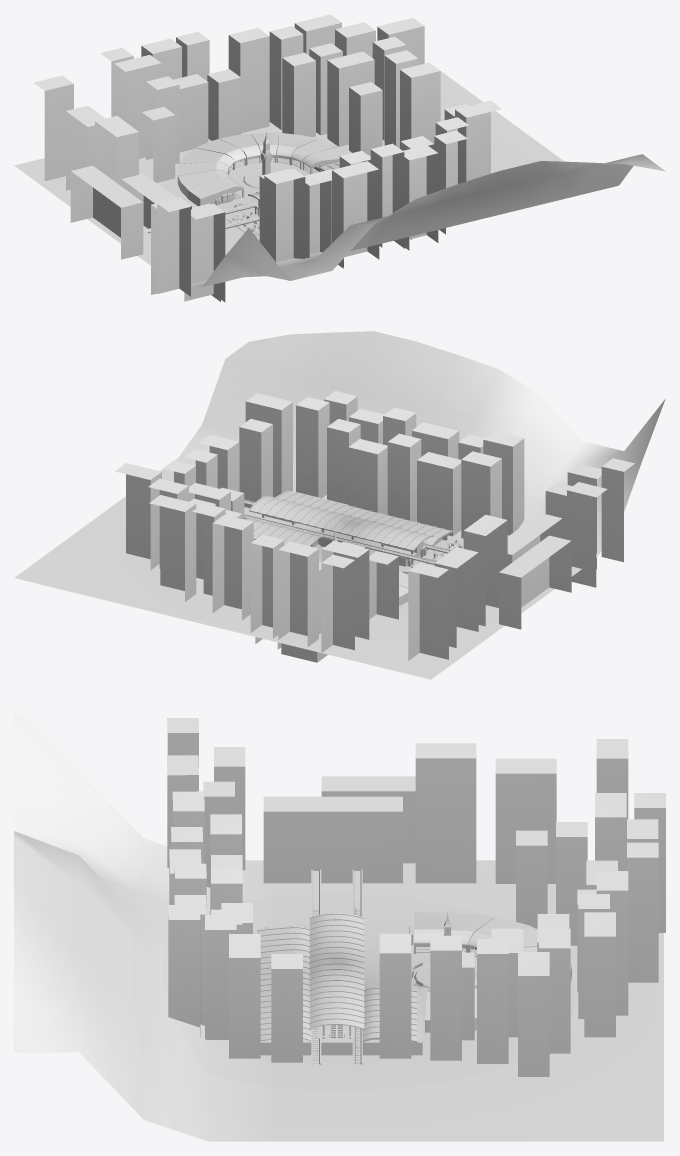
The model's file is mod_environment_shade.fbx.
3 views of the same model, one above another, from view 1: azimuth 30°, elevation 25°; view 2: azimuth 150°, elevation 25°; view 3: azimuth 270°, elevation 25° (orthographic). The views are drawn at different scales.
Visible parts, largest first — view 1: dmodel:dmodel:pCube1; view 2: dmodel:dmodel:pCube1; view 3: dmodel:dmodel:pCube1.
Part boxes in pixels (x1,y1,x2,y2): dmodel:dmodel:pCube1: (14,14,665,302); dmodel:dmodel:pCube1: (14,331,665,679); dmodel:dmodel:pCube1: (14,708,665,1141).
Bounding box in the file's own units: 366 × 109 × 339.
